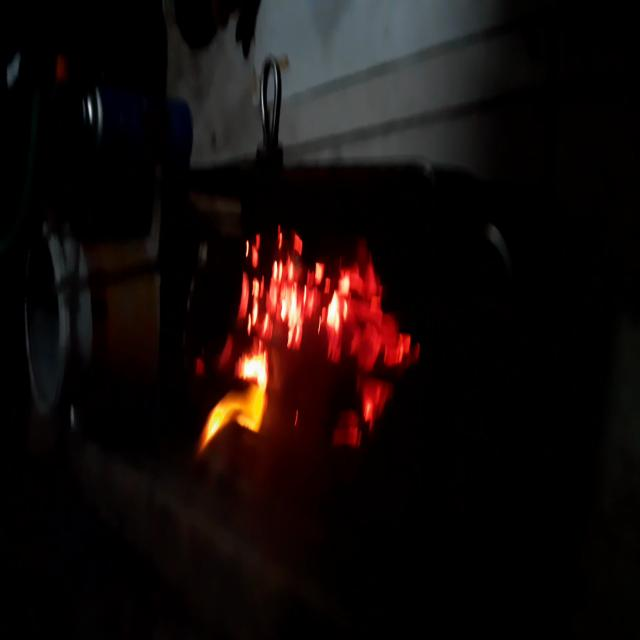Fire: (225, 216, 424, 359), (195, 373, 281, 459), (334, 379, 409, 468)
